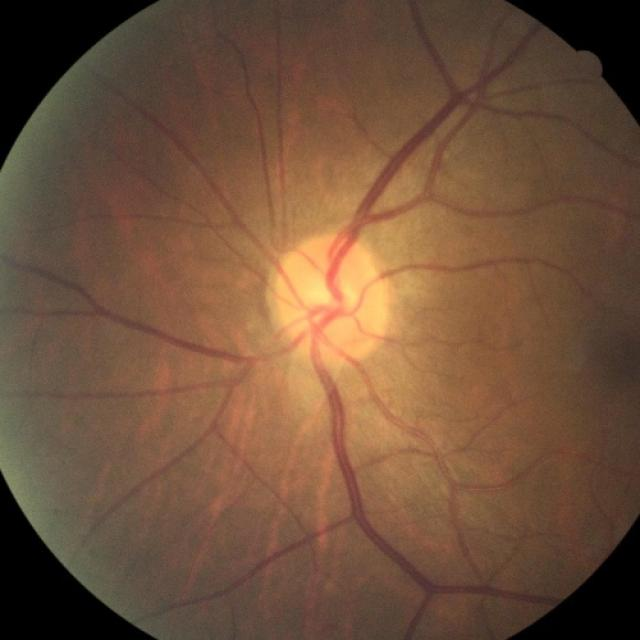OC: (305, 279, 358, 312)
OD: (274, 234, 390, 362)
